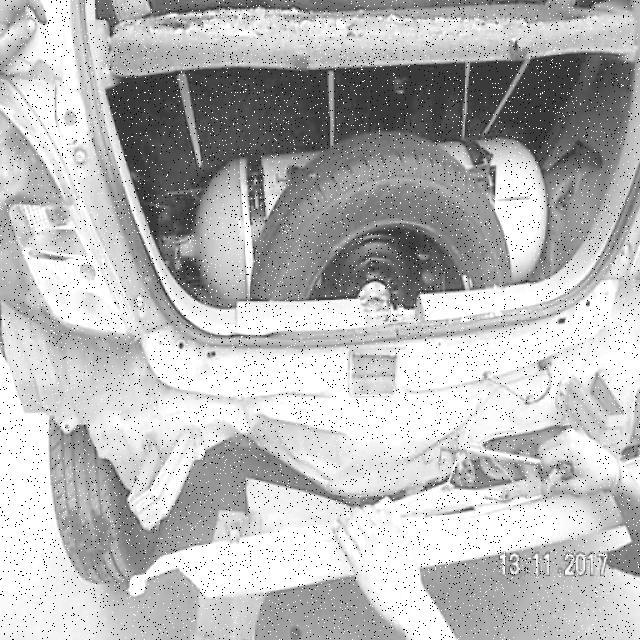car damage: (2, 276, 640, 593)
